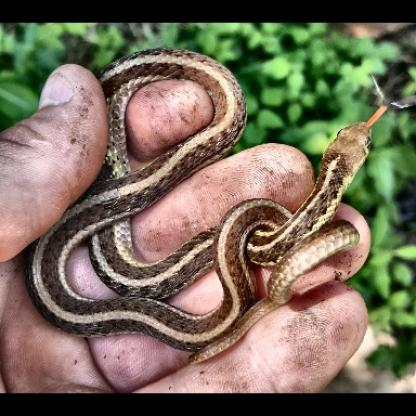Snake: (16, 48, 388, 367), (267, 115, 382, 270)
